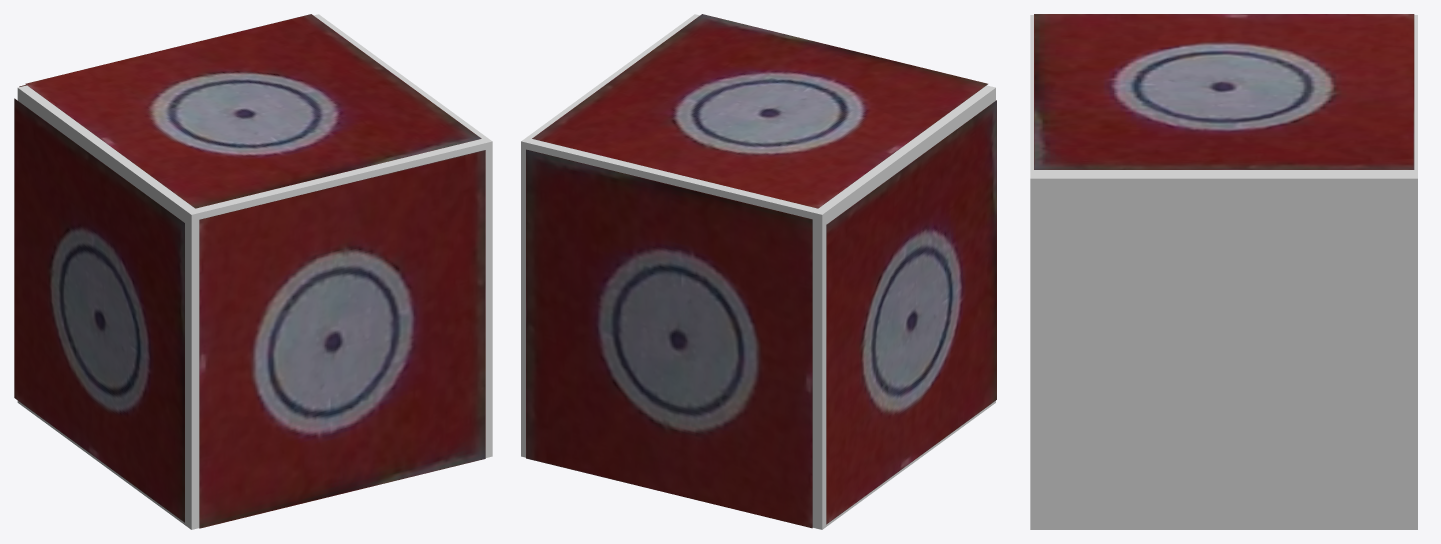
The picture shows the model from 3 angles, left to right: view 1: azimuth 30°, elevation 25°; view 2: azimuth 150°, elevation 25°; view 3: azimuth 270°, elevation 25°; orthographic projection. The views are drawn at different scales.
Parts seen in each view (by area): view 1: R1.004, R1.003, R1.002, Link30; view 2: R1.001, R1.003, R1.002, Link30; view 3: Link30, R1.002.
Part boxes in pixels (x1,y1,x2,y2): R1.004: (199, 150, 485, 528); R1.003: (14, 98, 184, 522); R1.002: (25, 14, 481, 208); Link30: (17, 14, 492, 529); R1.001: (526, 149, 812, 528); R1.003: (826, 100, 996, 524); R1.002: (532, 14, 987, 208); Link30: (521, 14, 995, 529); Link30: (1030, 15, 1417, 529); R1.002: (1034, 14, 1414, 169).
Bounding box in the file's own units: 0.3543 × 0.3623 × 0.3557.
Materials: 1 (1 with a texture image).
